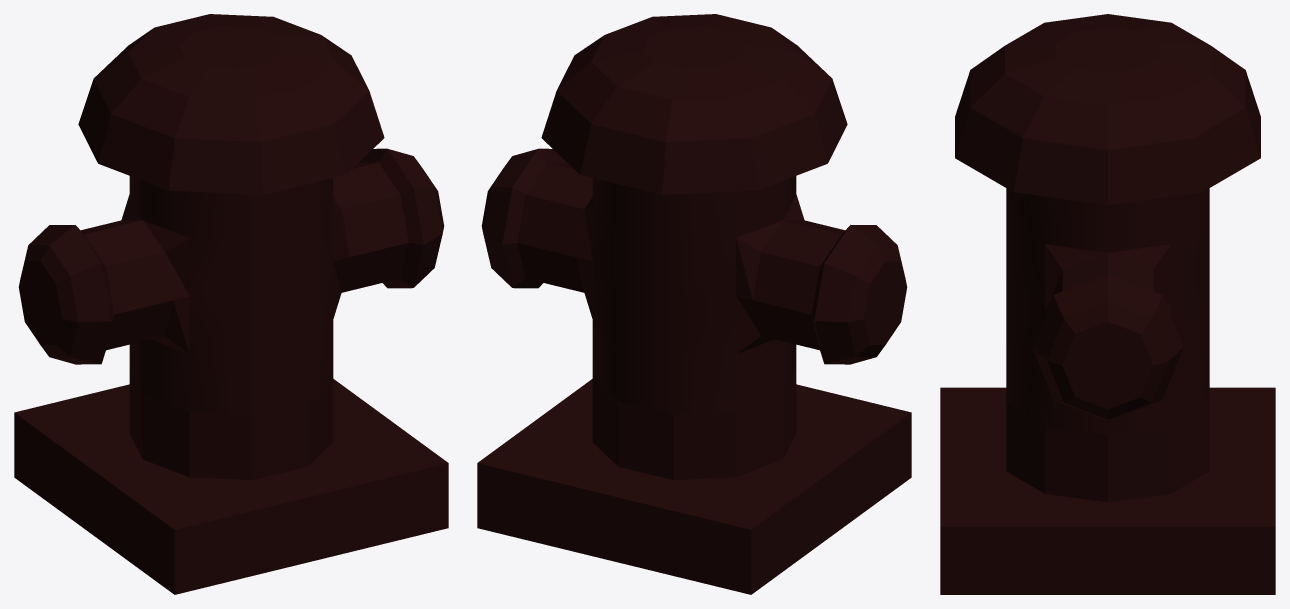
File: Bollard_02.FBX
3 renders of one model, left to right at view 1: azimuth 30°, elevation 25°; view 2: azimuth 150°, elevation 25°; view 3: azimuth 270°, elevation 25°, orthographic. The views are drawn at different scales.
Visible parts, largest first — view 1: Cylinder001; view 2: Cylinder001; view 3: Cylinder001.
Part boxes in pixels (x1,y1,x2,y2): Cylinder001: (14, 14, 448, 594); Cylinder001: (477, 14, 911, 594); Cylinder001: (940, 14, 1275, 594).
Bounding box in the file's own units: 43.03 × 49 × 31.31.
